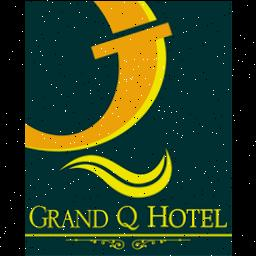d: (90, 207, 110, 233)
h: (148, 200, 166, 232)
q: (116, 205, 142, 235)
